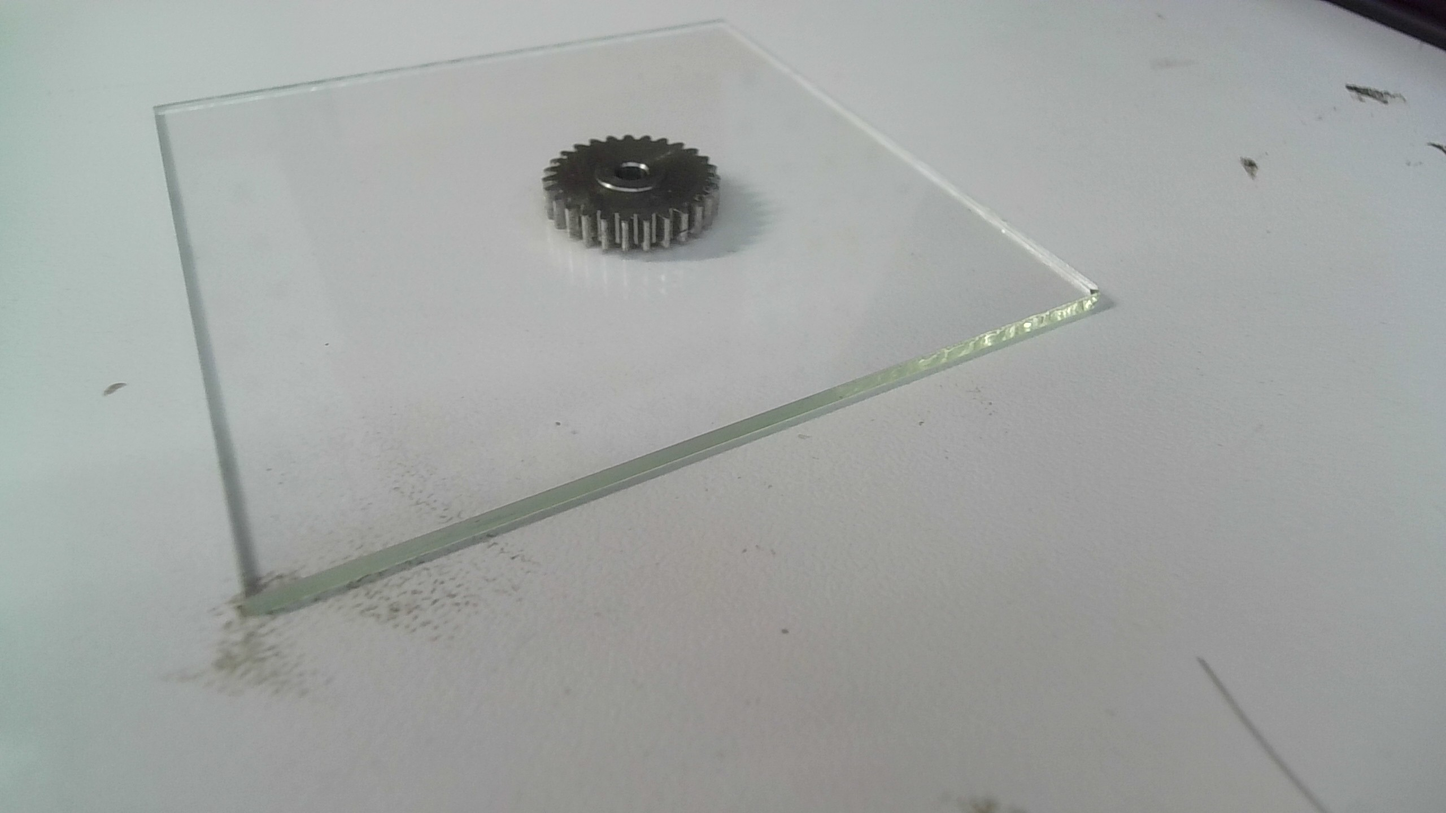gear: (537, 132, 724, 260)
